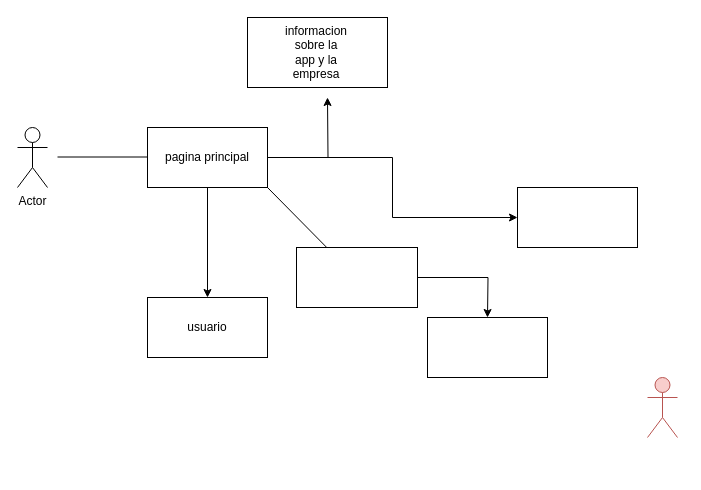
Some shapes in this 701 by 490 pixel diagram are drawn without their labels. The shapes that lost their labels are listed below. From the top down, each one's box as (x1, y1, x2, y2) in pixels, then its label:
(296, 246, 418, 308): pedidos
(646, 376, 678, 438): servidor
